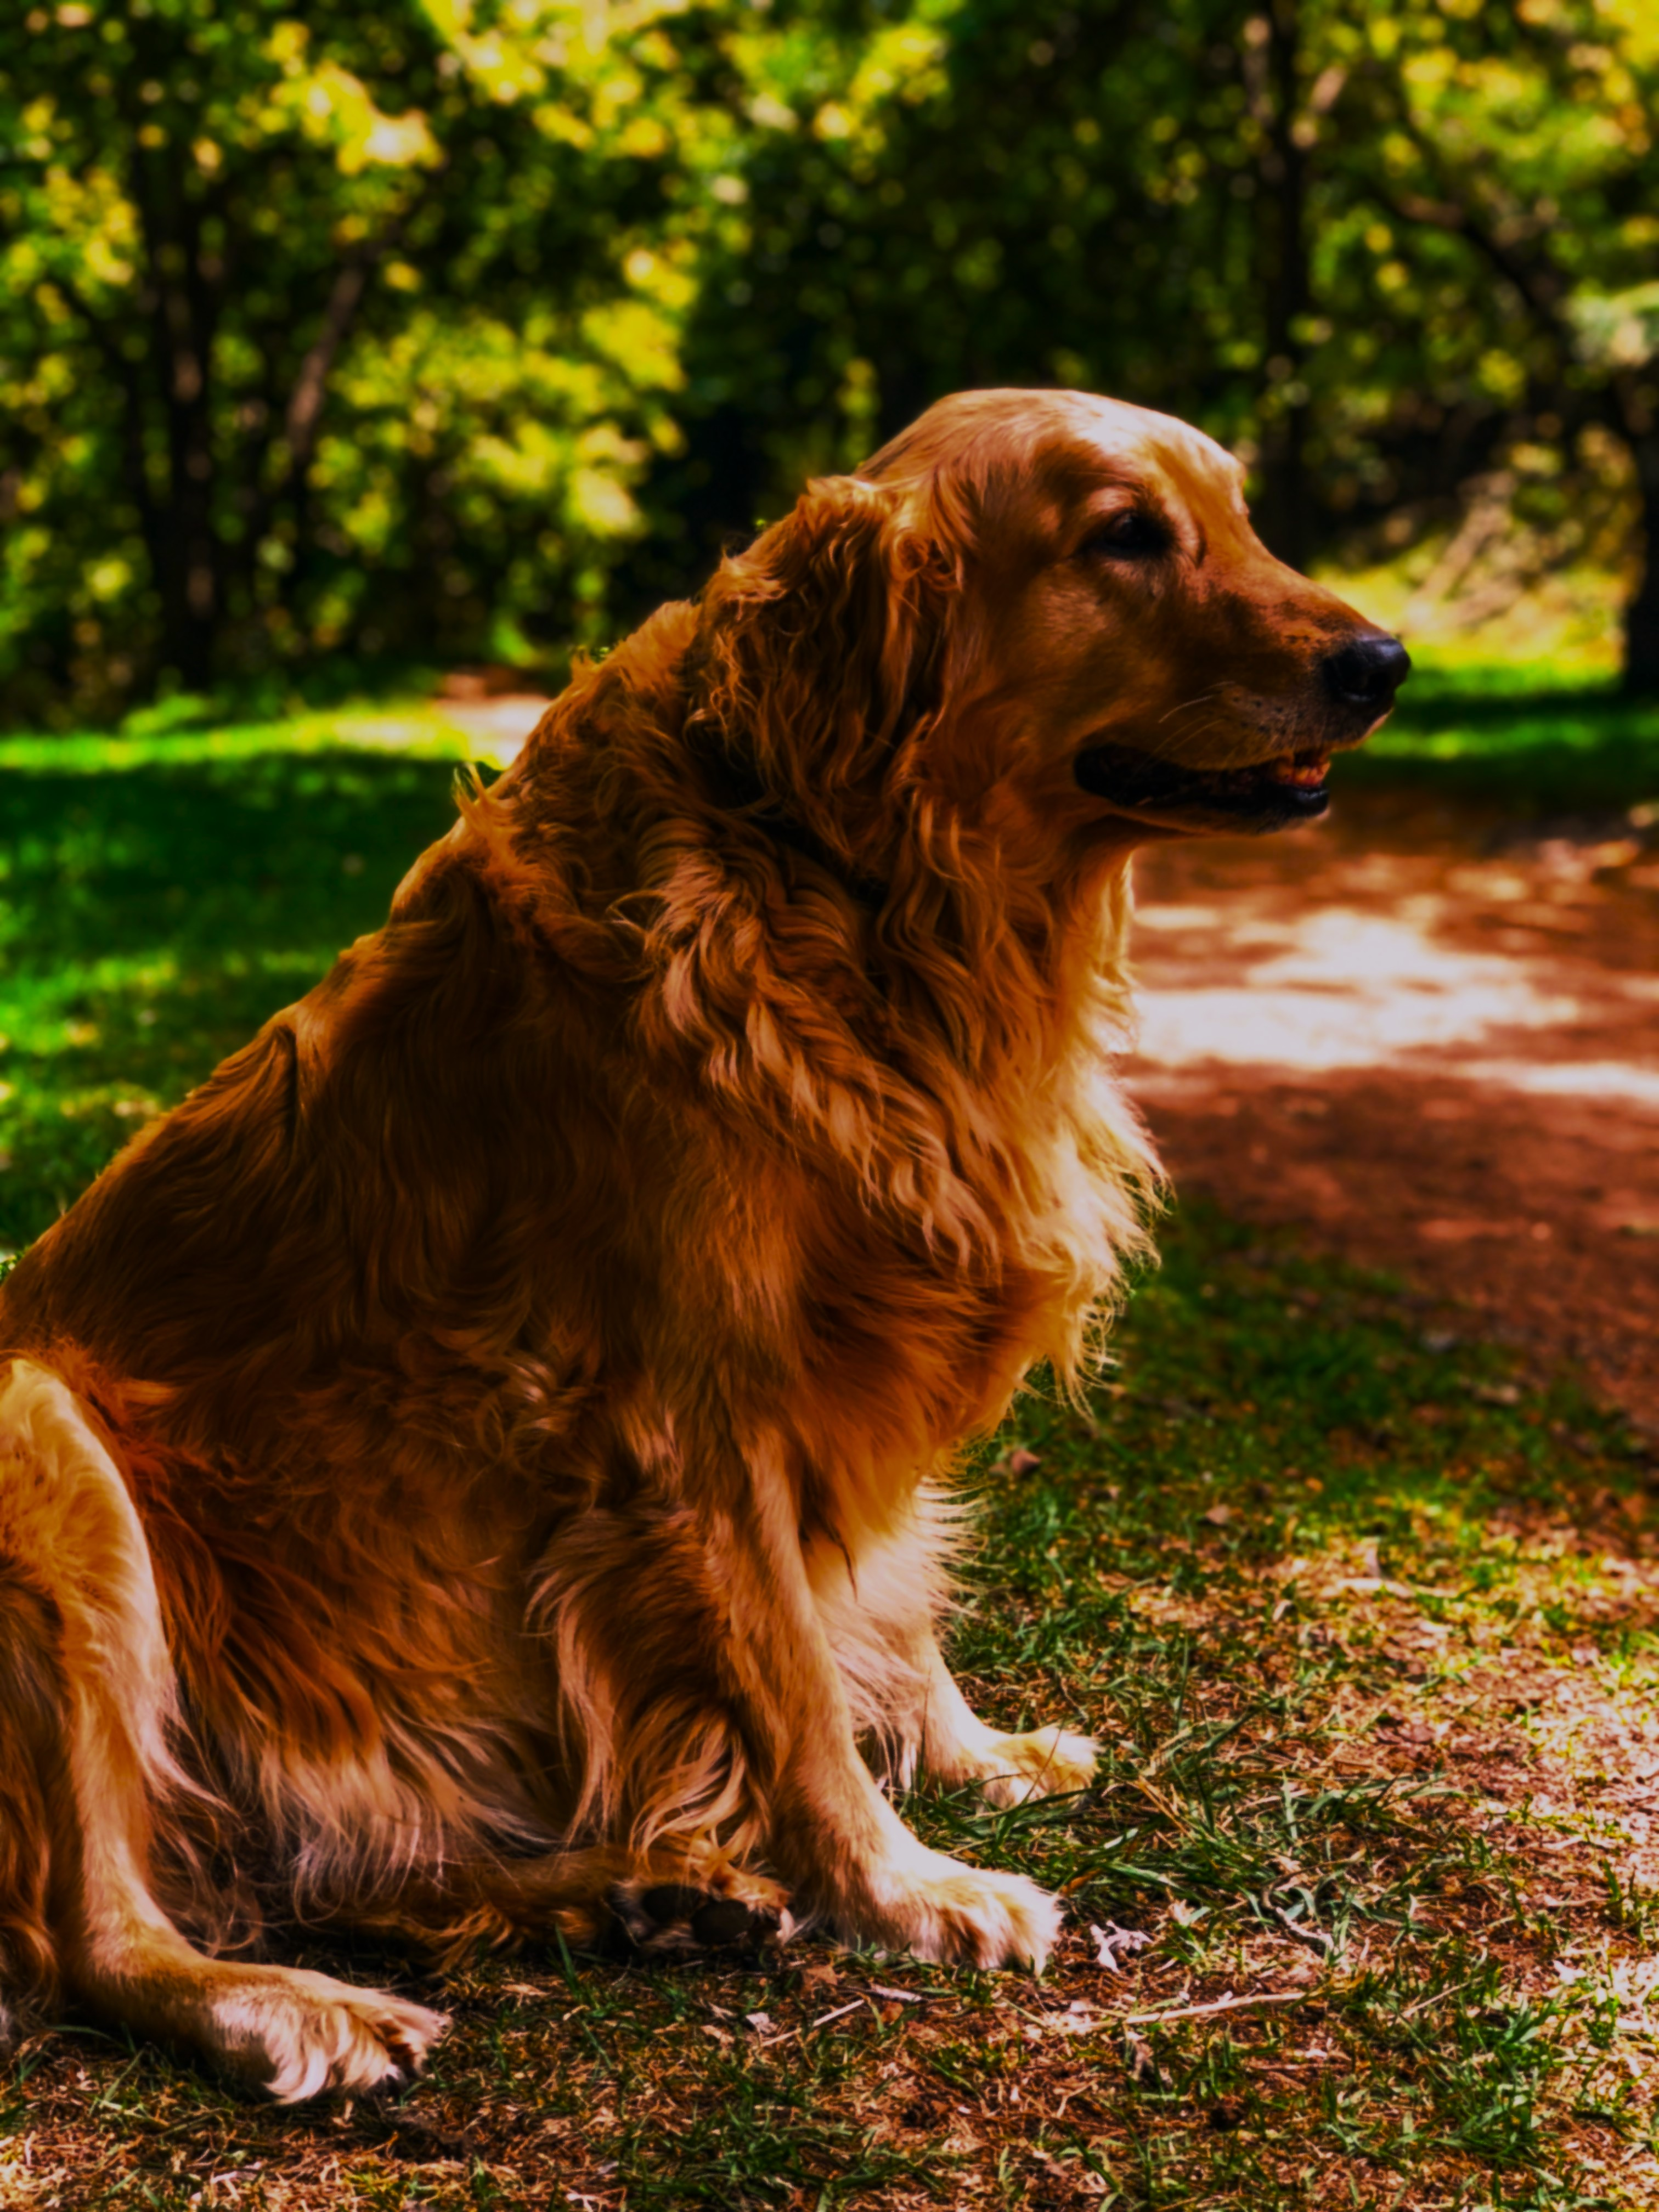dog: (0, 378, 1425, 2128)
